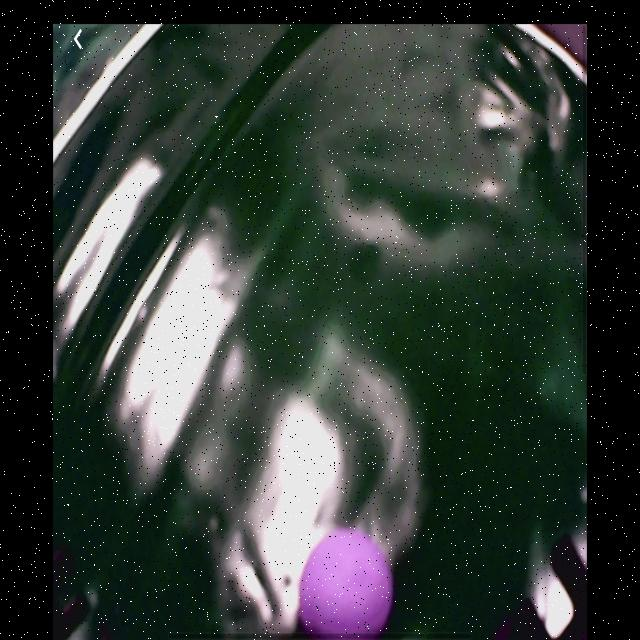ball: (300, 532, 394, 639)
